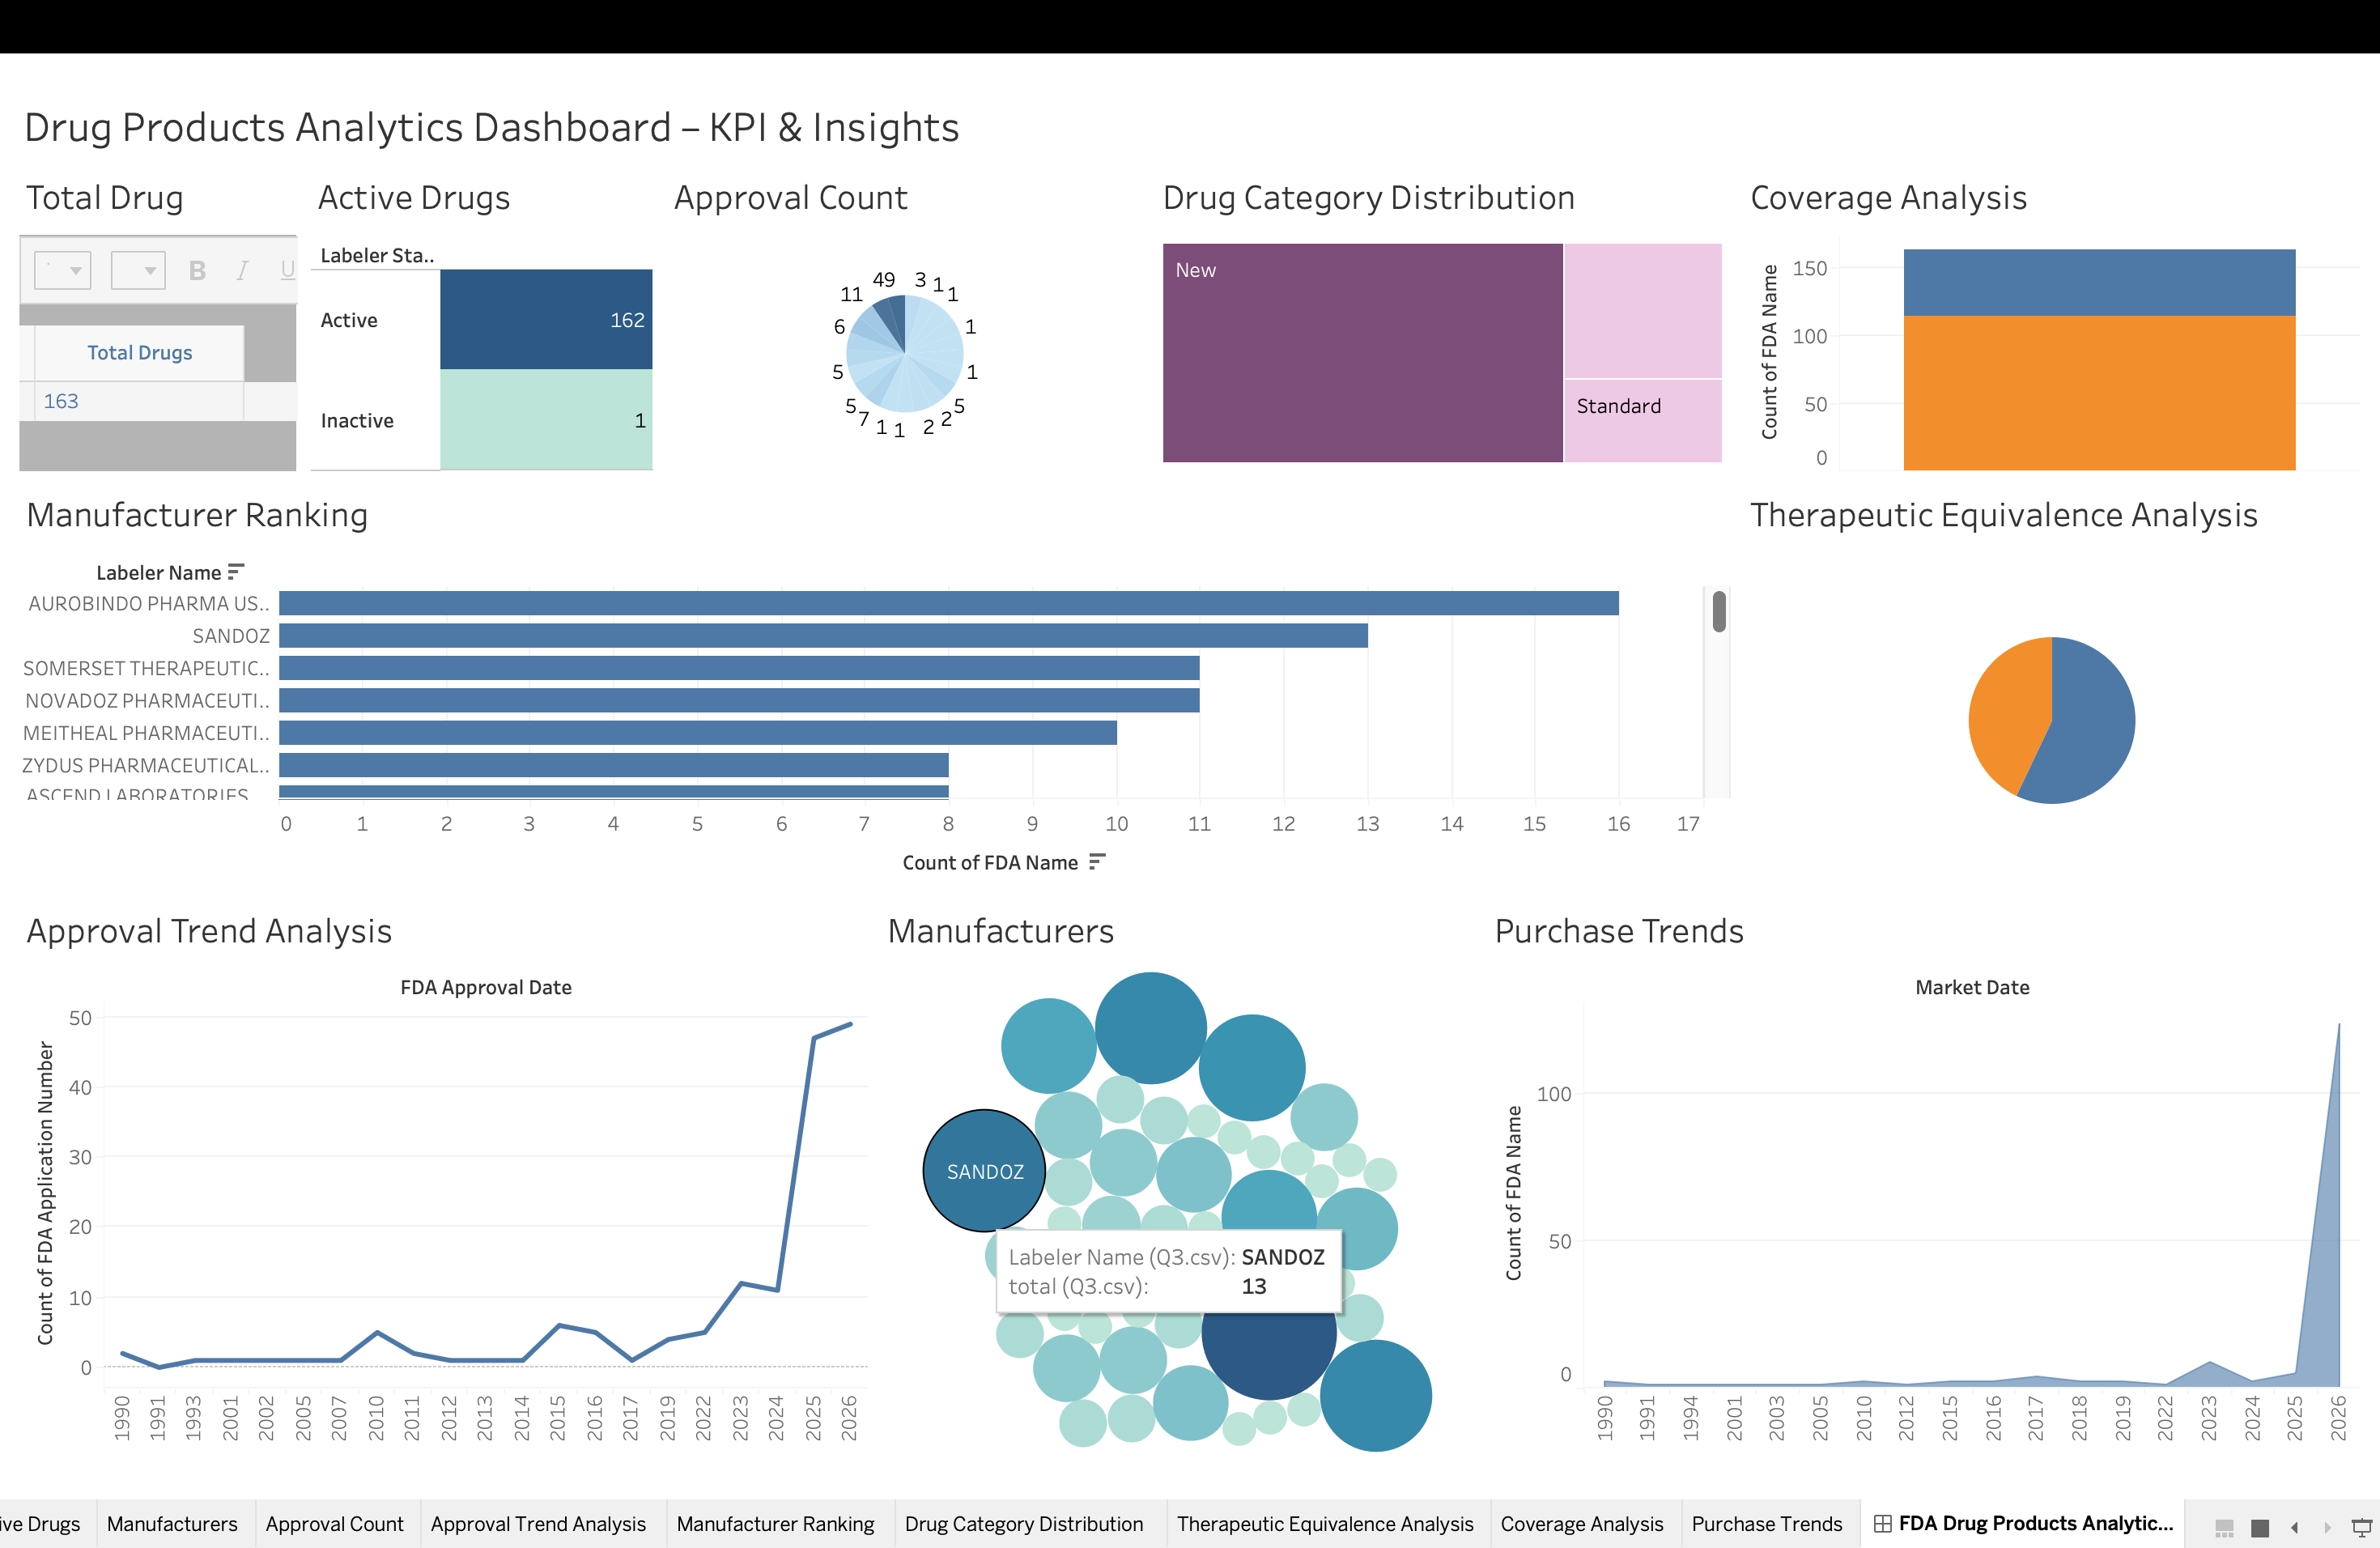

Layout of this report page (visuals, bound fields, positions):
{"tool":"tableau","page":{"name":"FDA Drug Products Analytics Dashboard","canvas":[1000,1000],"units":"permille","ordinal":0},"visuals":[{"type":"title","box":[5.6,10.1,988.7,53.2]},{"type":"worksheet","title":"Total Drug","box":[5.6,63.4,122.5,226.5]},{"type":"worksheet","title":"Active Drugs","mark":"Square","rows":["Labeler_Status (Q2.csv)"],"box":[128.2,63.4,149.3,226.5]},{"type":"worksheet","title":"Approval Count","mark":"Pie","box":[277.4,63.4,205.6,226.5]},{"type":"worksheet","title":"Drug Category Distribution","mark":"Automatic","box":[483.1,63.4,246.5,226.5]},{"type":"worksheet","title":"Coverage Analysis","mark":"Automatic","rows":["FDA_Name"],"box":[729.5,63.4,264.8,226.5]},{"type":"worksheet","title":"Manufacturer Ranking","mark":"Automatic","rows":["Labeler_Name"],"cols":["FDA_Name"],"box":[5.6,289.9,723.9,297.2]},{"type":"worksheet","title":"Therapeutic Equivalence Analysis","mark":"Pie","box":[729.6,289.9,264.8,297.2]},{"type":"worksheet","title":"Approval Trend Analysis","mark":"Line","rows":["FDA_Application_Number"],"cols":["FDA_Approval_Date"],"box":[5.6,587.1,327.5,402.8]},{"type":"worksheet","title":"Purchase Trends","mark":"Area","rows":["FDA_Name"],"cols":["Market_Date"],"box":[333.1,587.1,371.8,402.8]},{"type":"worksheet","title":"Manufacturers","mark":"Square","rows":["Labeler_Name (Q3.csv)"],"box":[704.9,587.1,289.5,402.8]}]}

Visuals, with their boxes on the dashboard's canvas, which has no fixed pixel size, in thousandths of its width and height (x1, y1, x2, y2). These are canvas units, not pixel positions in the 2380x1548 screenshot, which may show the page scaled, cropped or inside an application window:
title: rect(6, 10, 994, 63)
"Total Drug" worksheet: rect(6, 63, 128, 290)
"Active Drugs" worksheet (Square marks): rect(128, 63, 278, 290)
"Approval Count" worksheet (Pie marks): rect(277, 63, 483, 290)
"Drug Category Distribution" worksheet: rect(483, 63, 730, 290)
"Coverage Analysis" worksheet: rect(730, 63, 994, 290)
"Manufacturer Ranking" worksheet: rect(6, 290, 730, 587)
"Therapeutic Equivalence Analysis" worksheet (Pie marks): rect(730, 290, 994, 587)
"Approval Trend Analysis" worksheet (Line marks): rect(6, 587, 333, 990)
"Purchase Trends" worksheet (Area marks): rect(333, 587, 705, 990)
"Manufacturers" worksheet (Square marks): rect(705, 587, 994, 990)
